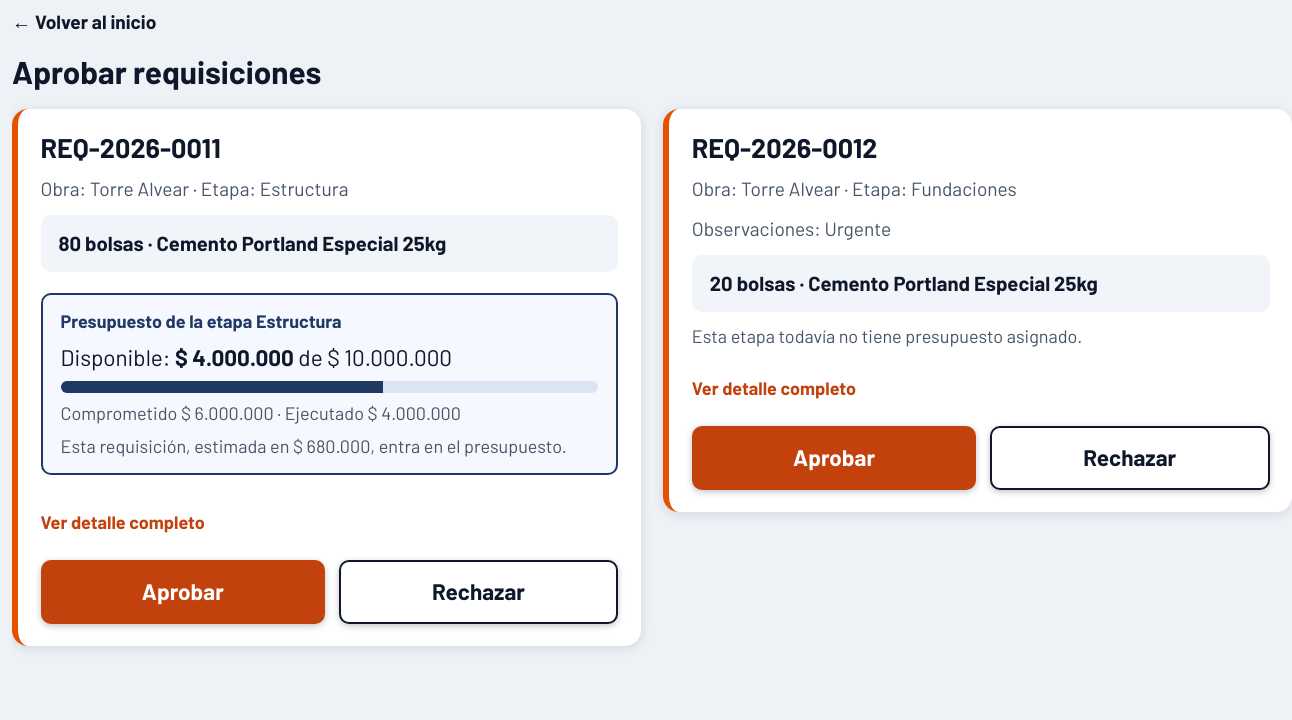
Scenario: AprobarRequisicionesPage › aprueba una requisición y la saca de la lista
Expected: the heading "REQ-2026-0011" is shown, [40,131,221,163]
Click the button with aria-label "Aprobar REQ-2026-0011" at point(183, 592), box [40,560,325,624]
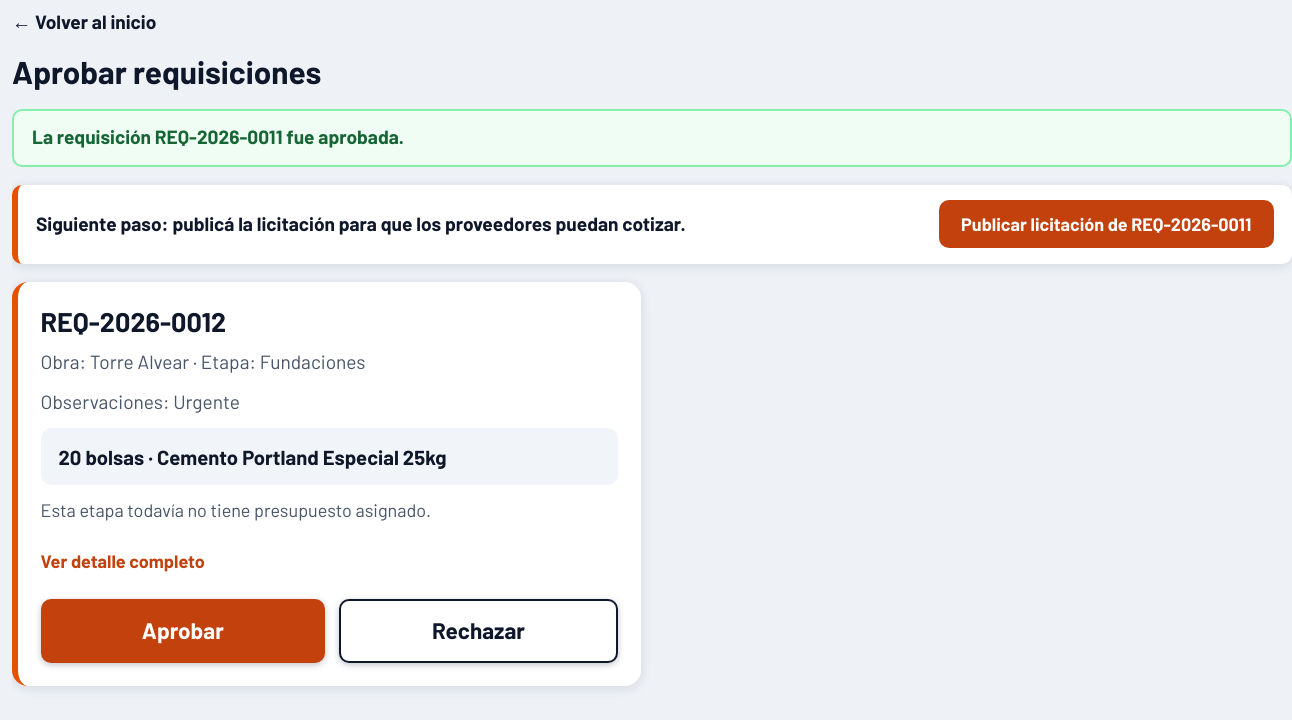
Expected: the heading "REQ-2026-0012" is shown, [40,305,226,337]
Now the message reads "La requisición REQ-2026-0011 fue aprobada.", box [32,125,404,148]
